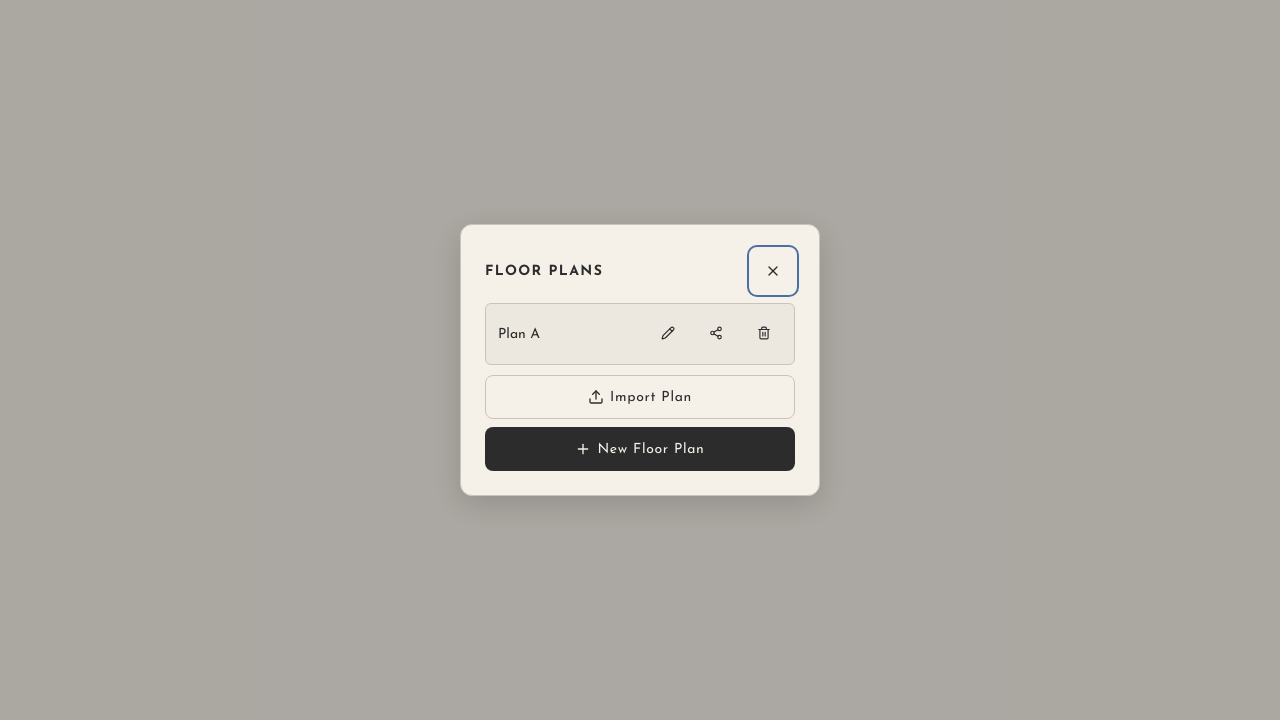
Test case: FloorplanManager › commits rename on Enter
Click the button named "Rename \"Plan A\"".
click(668, 334)  # box [646, 312, 690, 356]
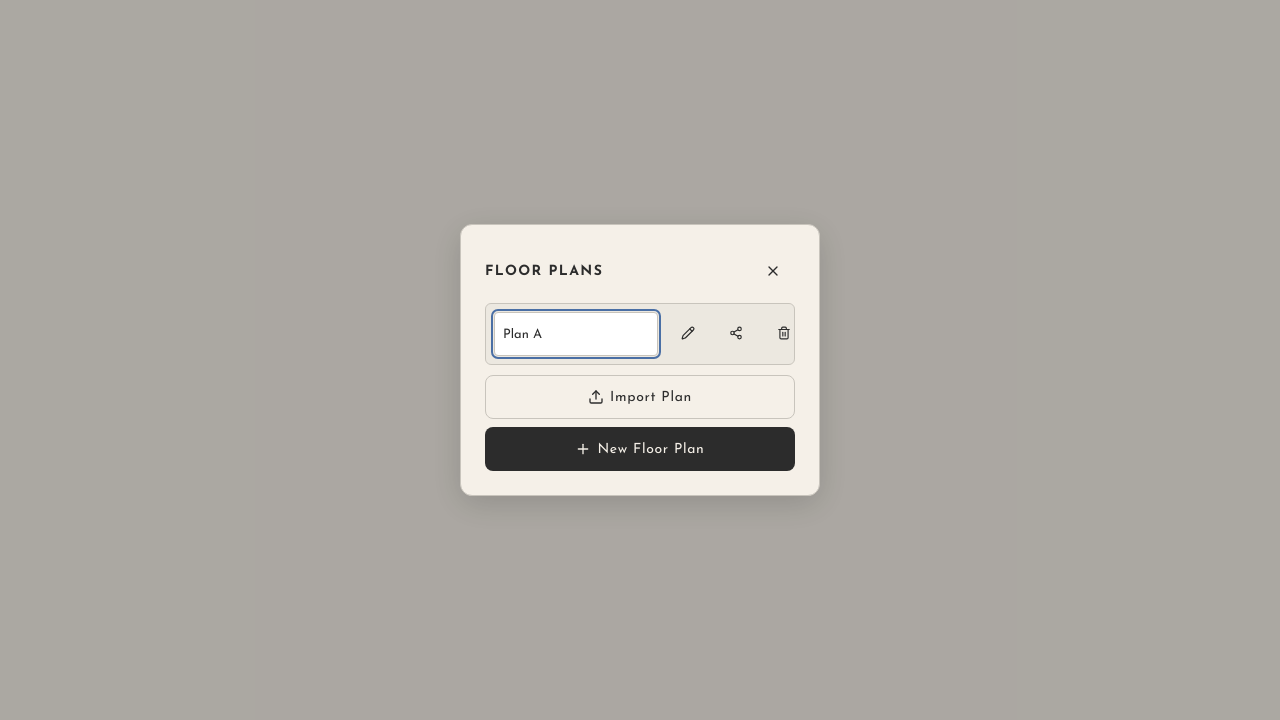
Replace the text in the field named "Rename plan" with "Renamed Plan" at (576, 334), box [494, 312, 658, 356]
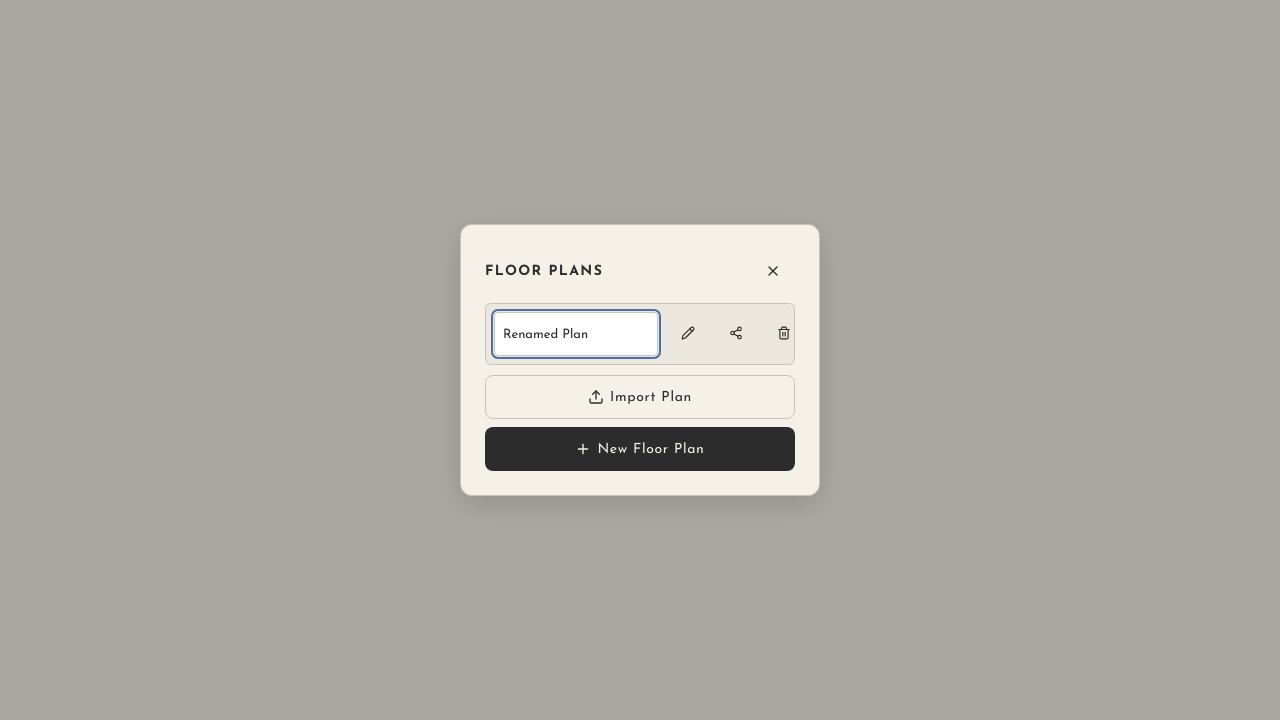
Press Enter
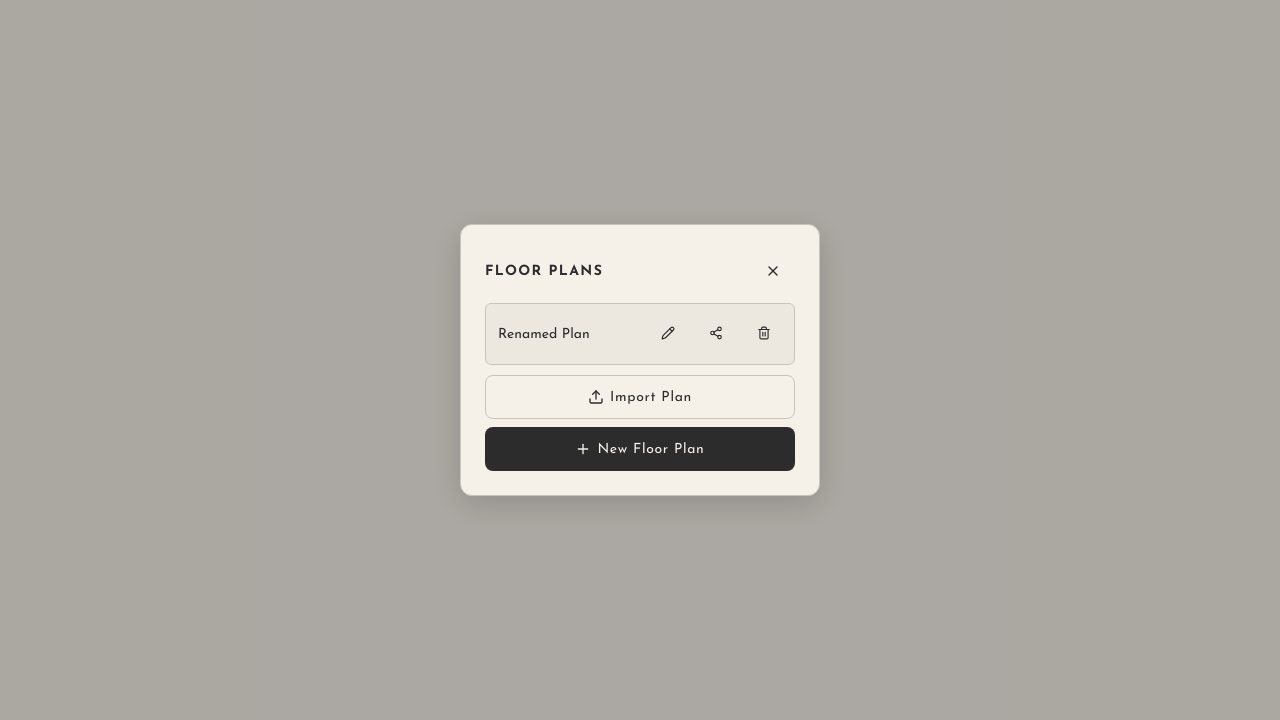
expect the button "Renamed Plan" reads "Renamed Plan": met, box [494, 312, 638, 356]
